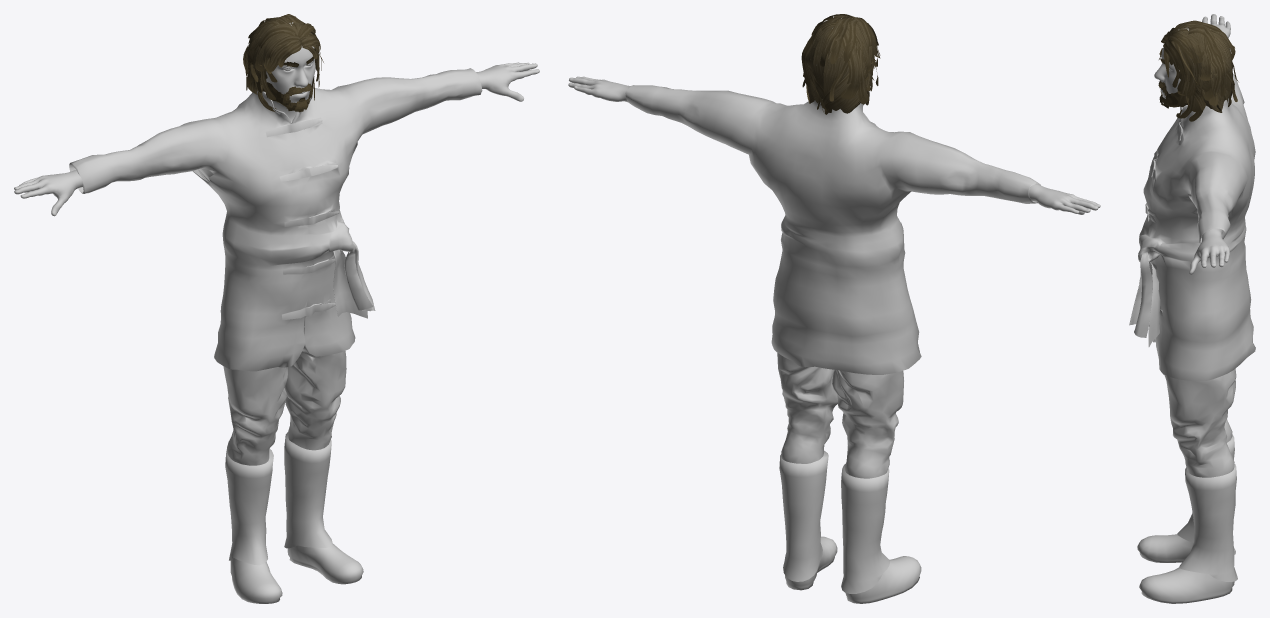
Rendered from Clothes 2.fbx.
3 views of the same model, side by side, from view 1: azimuth 30°, elevation 25°; view 2: azimuth 150°, elevation 25°; view 3: azimuth 270°, elevation 25° (orthographic). The views are drawn at different scales.
Visible parts, largest first — view 1: Gambeson_Plane.017, EdwardKenwayHair.002_Mesh.013; view 2: Gambeson_Plane.017, EdwardKenwayHair.002_Mesh.013; view 3: Gambeson_Plane.017, EdwardKenwayHair.002_Mesh.013.
Part boxes in pixels (x1=…): Gambeson_Plane.017: x1=14, y1=22, x2=539, y2=603; EdwardKenwayHair.002_Mesh.013: x1=243, y1=14, x2=323, y2=112; Gambeson_Plane.017: x1=568, y1=18, x2=1100, y2=603; EdwardKenwayHair.002_Mesh.013: x1=801, y1=14, x2=880, y2=114; Gambeson_Plane.017: x1=1129, y1=14, x2=1255, y2=603; EdwardKenwayHair.002_Mesh.013: x1=1158, y1=20, x2=1238, y2=121.
Size of the model in its own units: 177 by 180 by 37.62.
